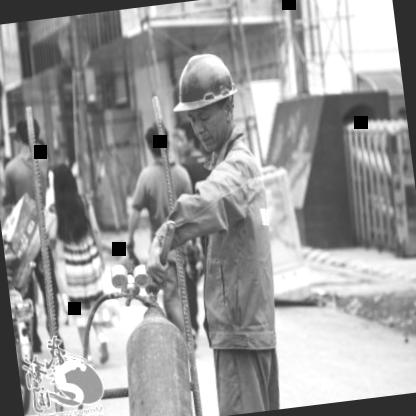helmet: (158, 40, 252, 171)
